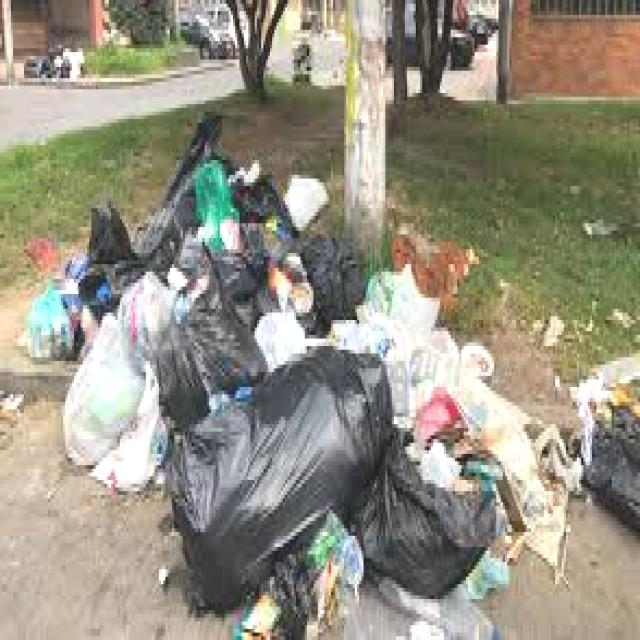garbage: (2, 126, 570, 616)
